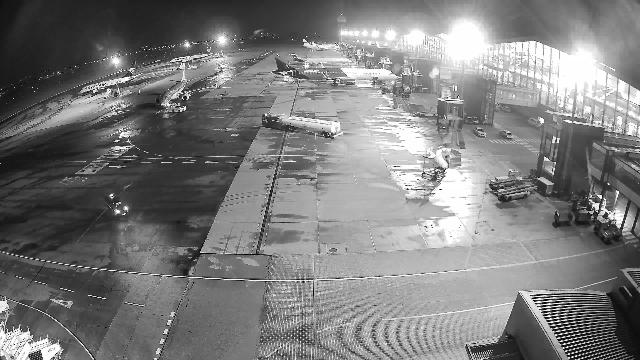Aircraft: (271, 52, 398, 86), (139, 65, 220, 106), (80, 61, 143, 94), (170, 46, 214, 63), (288, 53, 353, 64), (303, 39, 340, 49)
Airport_Tractor: (593, 218, 613, 242), (603, 216, 621, 240), (586, 194, 606, 211), (442, 147, 451, 164), (381, 86, 392, 92)
Baggage_Trolley: (536, 177, 554, 195), (554, 210, 573, 225), (572, 199, 588, 213), (575, 211, 592, 223), (593, 210, 609, 220)
Conveyor_Belt: (494, 176, 537, 201), (489, 169, 529, 190), (413, 106, 437, 118)
Fuel_Tuck: (261, 113, 342, 139)
Ground_Crew: (177, 102, 180, 105)
Pushback_Tug: (167, 103, 186, 112)
